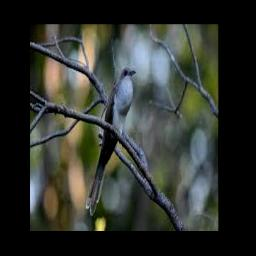Cuckoo: (86, 66, 137, 215)
